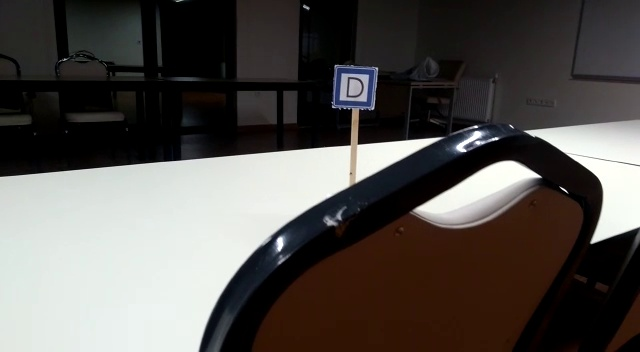durak: (330, 65, 377, 108)
